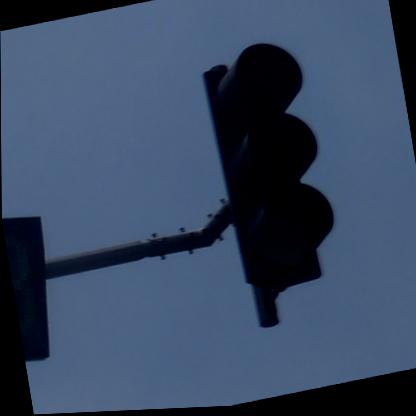green: (200, 35, 343, 301)
